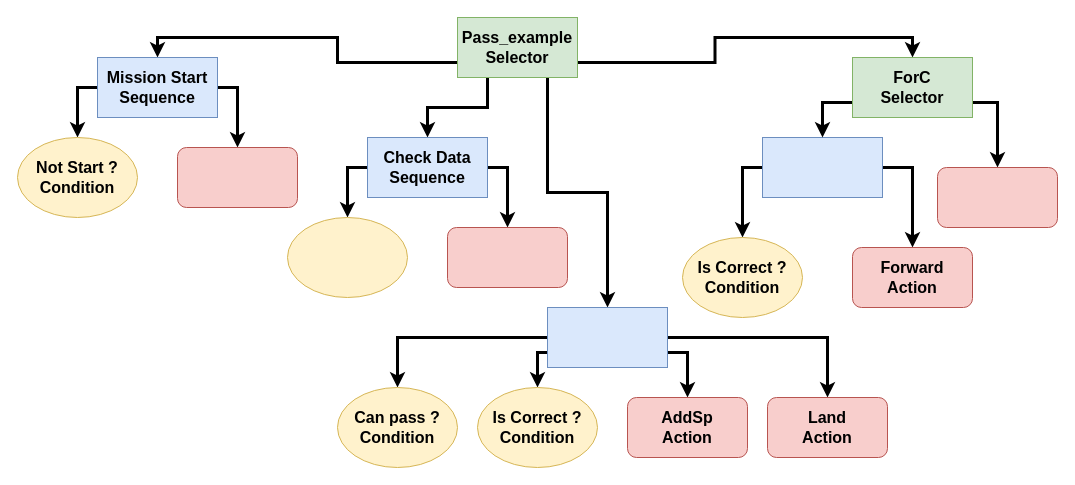
This 1075x485 diagram has some shape labels left out. Each missing label, with the centre of its shape:
"Correction Action" goes at (997,197).
"F Sequence" goes at (822,167).
"Final Sequence" goes at (607,337).
"Hover Action" goes at (507,257).
"Not Received ? Condition" goes at (347,257).
"Takeoff Action" goes at (237,177).
